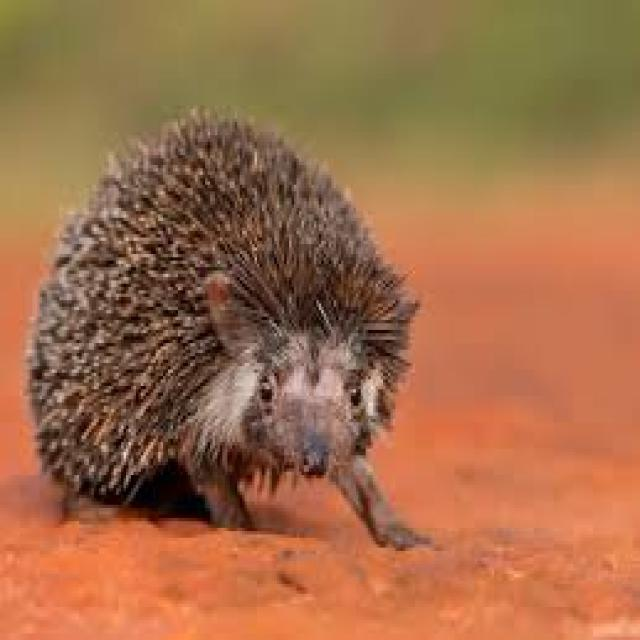Hedgehog: (18, 93, 431, 563)
